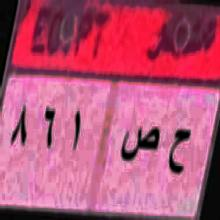1: (67, 102, 83, 160)
6: (40, 97, 57, 159)
7aa: (168, 118, 190, 182)
8: (8, 105, 29, 155)
saad: (117, 118, 160, 168)
